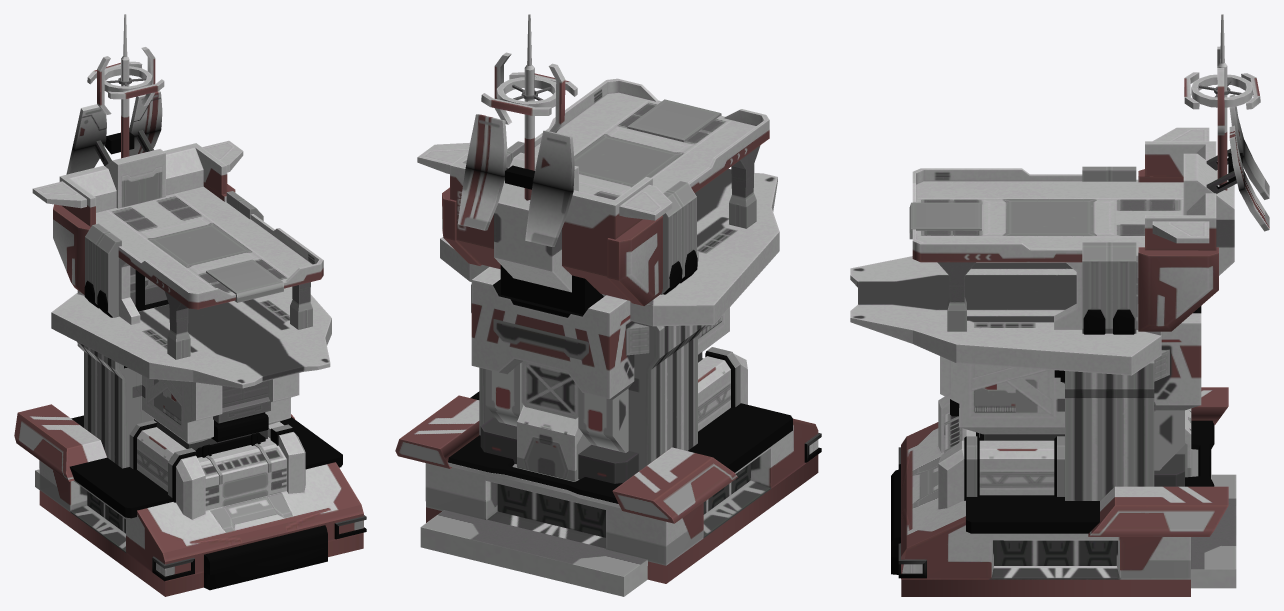
Rendered from battle-base.glb.
3 renders of one model, left to right at view 1: azimuth 30°, elevation 25°; view 2: azimuth 150°, elevation 25°; view 3: azimuth 270°, elevation 25°, orthographic. The views are drawn at different scales.
Parts seen in each view (by area): view 1: battle-base-0, battle-base-2, battle-base-5, battle-base-4; view 2: battle-base-0, battle-base-2, battle-base-3, battle-base-4; view 3: battle-base-0, battle-base-2.
Boxes of the visible parts, x1,y1,x2,y2 form: battle-base-0: (14,14,366,596); battle-base-2: (104,66,152,92); battle-base-5: (108,79,164,99); battle-base-4: (97,56,111,114); battle-base-0: (395,14,821,596); battle-base-2: (496,77,556,107); battle-base-3: (481,93,551,115); battle-base-4: (548,63,565,132); battle-base-0: (850,14,1269,596); battle-base-2: (1191,74,1252,107).
Size of the model in its own units: 7.12 by 13.59 by 9.81.
1 material, 1 textured.
